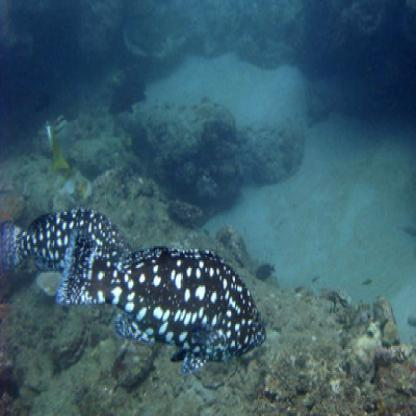grouper: (56, 227, 269, 376)
